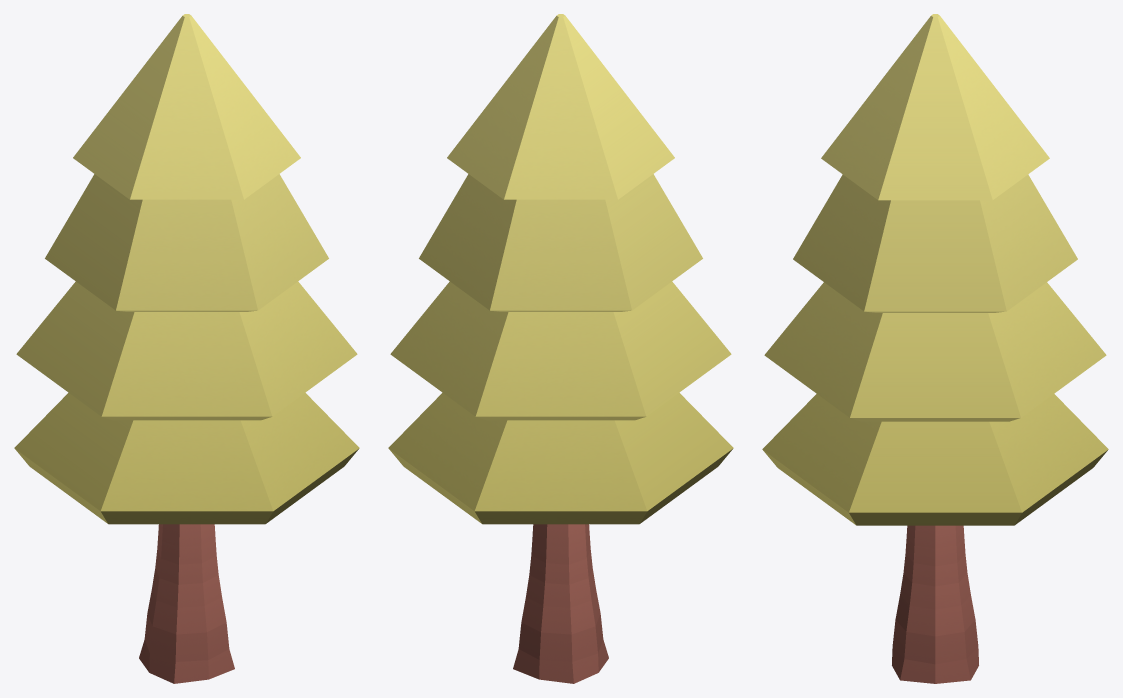
Rendered from tree4.fbx.
3 views of the same model, side by side, from view 1: azimuth 30°, elevation 25°; view 2: azimuth 150°, elevation 25°; view 3: azimuth 270°, elevation 25° (orthographic).
Parts seen in each view (by area): view 1: Cube.004; view 2: Cube.004; view 3: Cube.004.
Boxes of the visible parts, bbox=[...] form: Cube.004: bbox=[14, 14, 359, 683]; Cube.004: bbox=[388, 14, 733, 683]; Cube.004: bbox=[762, 14, 1108, 683].
Bounding box in the file's own units: 357 × 853 × 412.
Materials: 1 (1 with a texture image).
